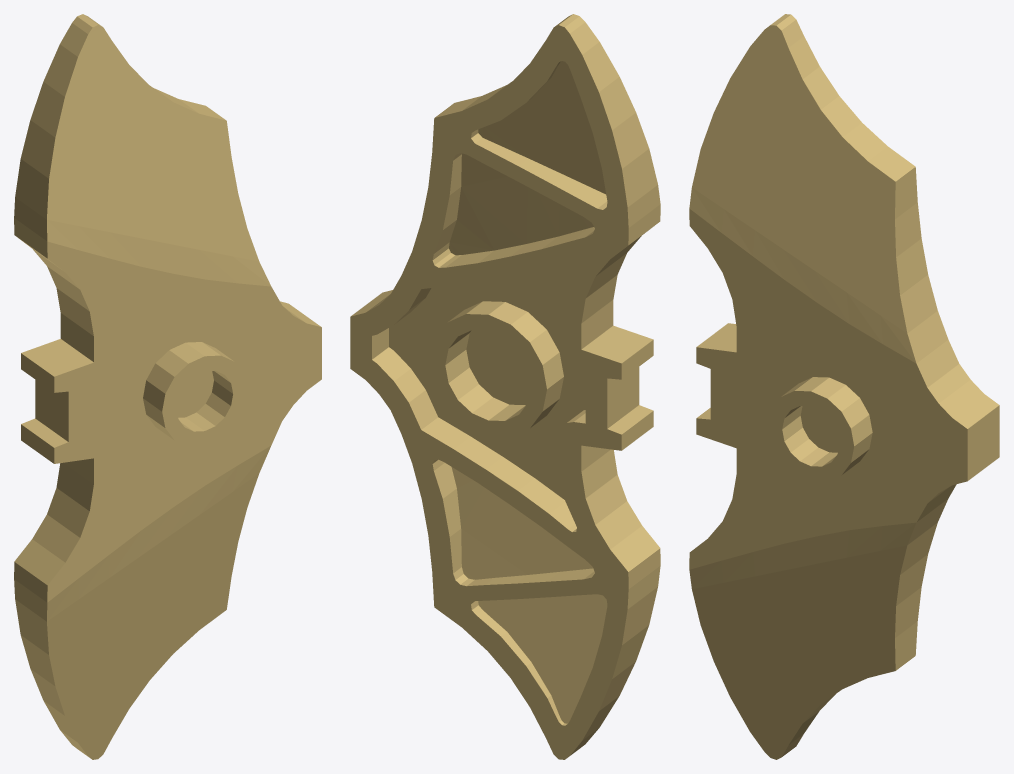
File: Bat.fbx
3 views of the same model, side by side, from view 1: azimuth 30°, elevation 25°; view 2: azimuth 150°, elevation 25°; view 3: azimuth 330°, elevation 25° (orthographic).
Visible parts, largest first — view 1: MB_5-material.090; view 2: MB_5-material.090; view 3: MB_5-material.090.
Part boxes in pixels (x1,y1,x2,y2): MB_5-material.090: (14, 14, 321, 759); MB_5-material.090: (350, 14, 660, 759); MB_5-material.090: (689, 14, 999, 759).
Size of the model in its own units: 126 by 319 by 41.51.
